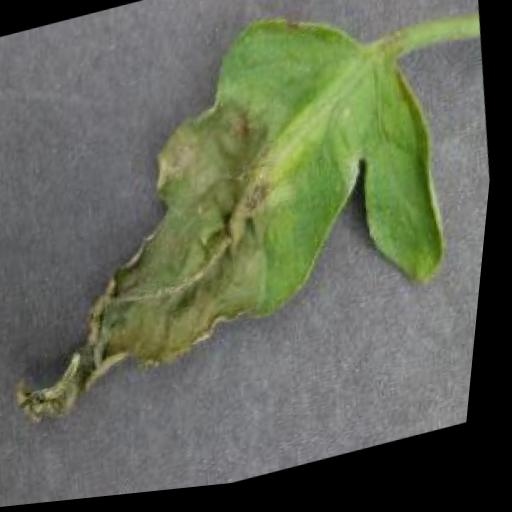Late Blight: (0, 0, 488, 436)
